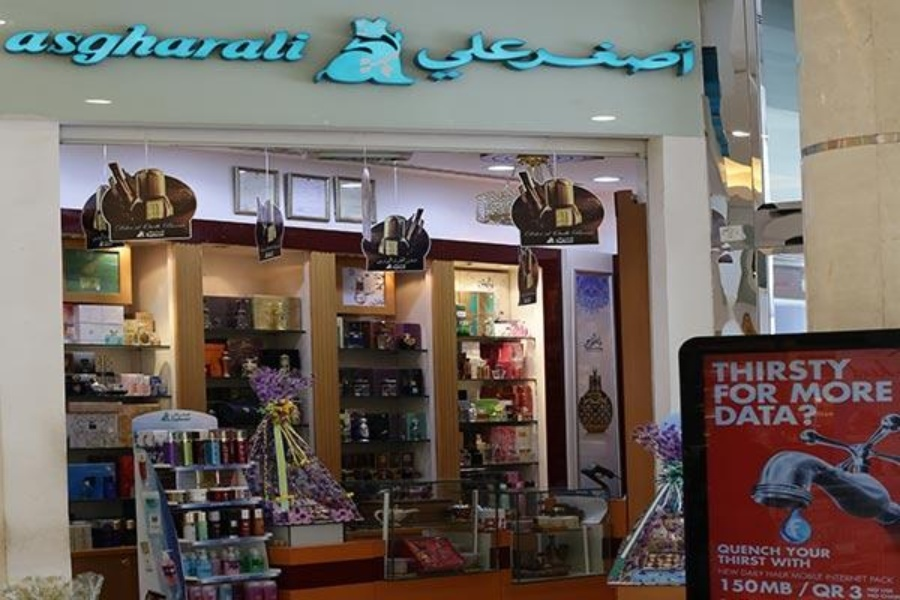text: (401, 23, 416, 86), (417, 23, 432, 86), (433, 23, 448, 86), (449, 23, 464, 86), (465, 23, 480, 86), (481, 23, 496, 86), (497, 23, 512, 86), (513, 23, 528, 86), (529, 23, 544, 86), (545, 23, 560, 86), (561, 23, 576, 86), (577, 23, 592, 86), (593, 23, 608, 86), (609, 23, 624, 86), (625, 23, 640, 86), (641, 23, 656, 86), (657, 23, 672, 86), (673, 23, 688, 86), (689, 23, 703, 86), (17, 17, 32, 70), (33, 17, 48, 70), (49, 17, 64, 70), (65, 17, 80, 70), (81, 17, 96, 70), (97, 17, 112, 70), (113, 17, 128, 70), (129, 17, 144, 70), (145, 17, 160, 70), (161, 17, 176, 70), (177, 17, 192, 70), (193, 17, 208, 70), (209, 17, 224, 70), (225, 17, 240, 70), (241, 17, 256, 70), (257, 17, 272, 70), (273, 17, 288, 70), (289, 17, 304, 70), (7, 17, 16, 70), (721, 359, 736, 385), (737, 359, 752, 385), (753, 359, 768, 385), (769, 359, 784, 385), (785, 359, 800, 385), (801, 359, 816, 385), (817, 359, 832, 385), (833, 359, 848, 385), (801, 382, 816, 406), (817, 382, 832, 406), (833, 382, 848, 406), (849, 382, 864, 406), (865, 382, 880, 406), (721, 383, 736, 406), (737, 383, 752, 406), (753, 383, 768, 406), (881, 382, 895, 406), (721, 406, 736, 428), (737, 406, 752, 428), (753, 406, 768, 428), (769, 406, 784, 428), (785, 406, 800, 428), (801, 406, 816, 428), (721, 565, 736, 587), (737, 565, 752, 587), (753, 565, 768, 587), (769, 565, 784, 587), (785, 565, 800, 587), (801, 565, 816, 587), (817, 565, 832, 587), (833, 565, 848, 587), (849, 565, 864, 587), (865, 565, 880, 587), (881, 565, 896, 587), (305, 17, 311, 70), (788, 382, 800, 406), (529, 227, 544, 246), (545, 227, 560, 246), (561, 227, 576, 246), (577, 227, 592, 246), (161, 409, 176, 428), (177, 409, 192, 428), (769, 383, 781, 406), (721, 578, 736, 596), (737, 578, 752, 596), (753, 578, 768, 596), (769, 578, 784, 596), (129, 221, 144, 239), (145, 221, 160, 239), (161, 221, 176, 239), (710, 359, 720, 385), (849, 584, 865, 600), (817, 583, 832, 600), (833, 583, 848, 600), (385, 256, 400, 272), (401, 256, 416, 272), (115, 221, 128, 239), (177, 221, 190, 239), (721, 541, 736, 556), (737, 541, 752, 556), (753, 541, 768, 556), (769, 556, 784, 571), (785, 556, 800, 571), (753, 554, 769, 568), (785, 545, 800, 559), (801, 545, 816, 559), (817, 545, 832, 559), (721, 554, 736, 568), (737, 554, 752, 568), (785, 578, 796, 596), (769, 541, 782, 556), (801, 580, 811, 599), (373, 256, 384, 272), (801, 556, 812, 571), (713, 383, 720, 406), (593, 227, 601, 246), (398, 23, 400, 86), (715, 406, 720, 428), (811, 583, 816, 600), (417, 256, 422, 272), (524, 227, 528, 246), (817, 406, 820, 428), (897, 565, 900, 587), (797, 580, 800, 599), (718, 565, 720, 587), (718, 541, 720, 556), (718, 554, 720, 568), (849, 359, 850, 385), (193, 409, 194, 428), (719, 578, 720, 596)
